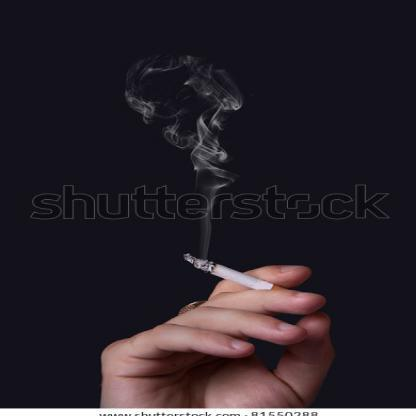cigarette: (182, 251, 289, 297)
smoke: (126, 54, 249, 192)
